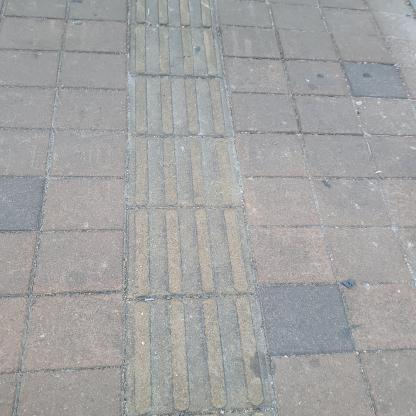podotacti: (111, 0, 284, 415)
